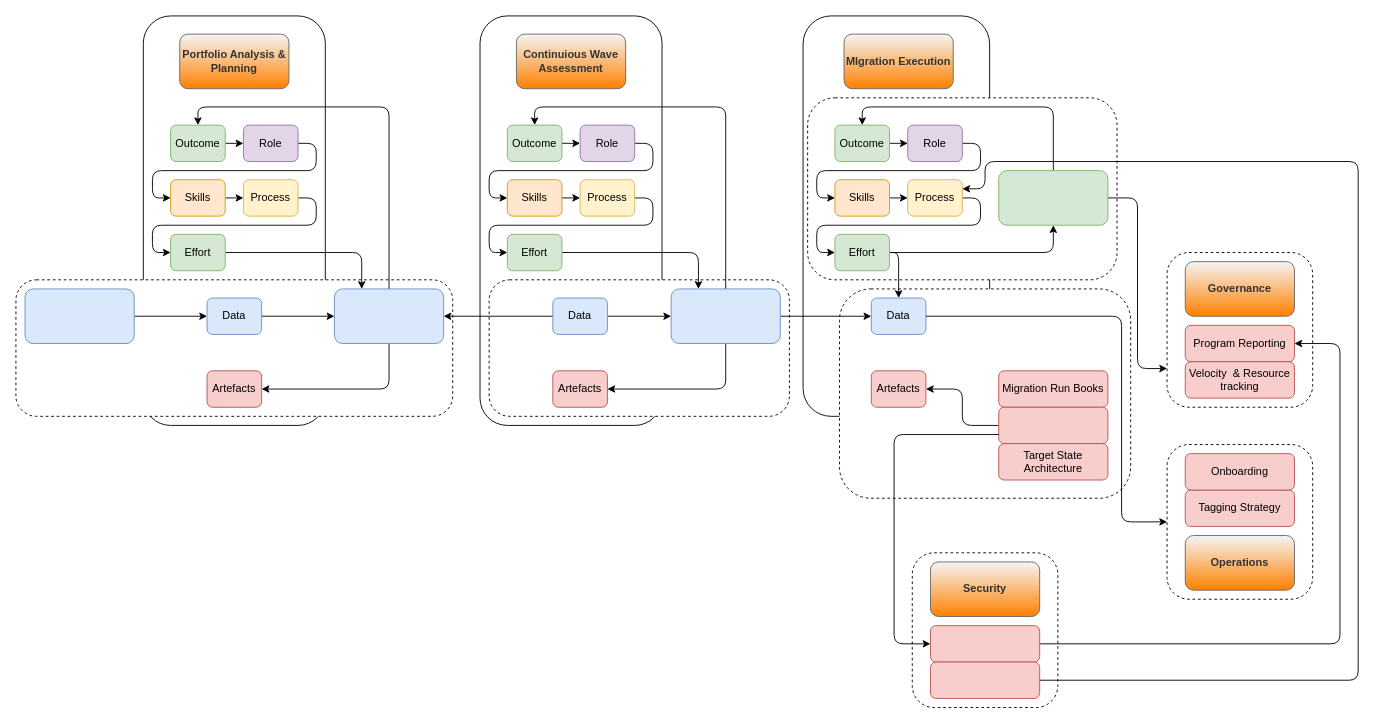
The diagram is 1381 pixels wide and 723 high, and some of its shapes have lost their labels. The centre of each missing label's shape, as x and y in pixels:
"Automation Scripts" belongs at point 1053,425.
"Code Reviews" belongs at point 985,643.
"Customer Portfolio" belongs at point 389,316.
"Detective & Preventative Controls" belongs at point 985,679.
"Discovery Tooling & CMDB" belongs at point 79,316.
"Servers Migrated" belongs at point 1053,197.
"Wave Plan" belongs at point 725,316.
